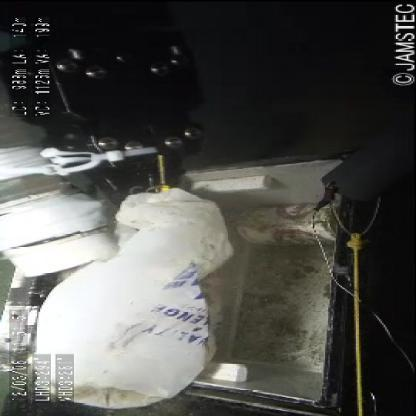Rác: (23, 164, 256, 414)
